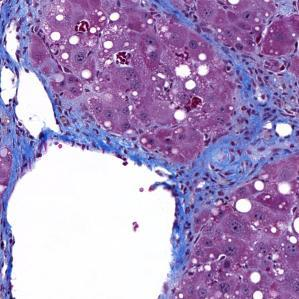fibrosis: (192, 118, 293, 200), (55, 98, 135, 156), (226, 45, 295, 108)
